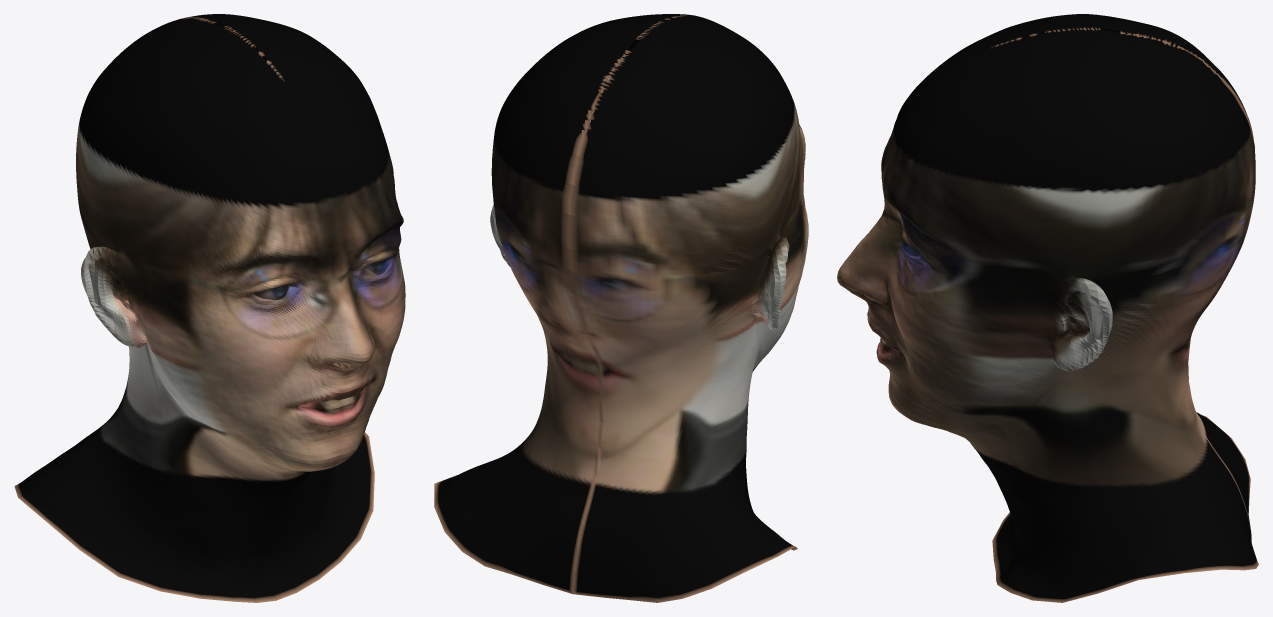
Rendered from mesh_coarse_detail.obj.
3 views of the same model, side by side, from view 1: azimuth 30°, elevation 25°; view 2: azimuth 150°, elevation 25°; view 3: azimuth 270°, elevation 25° (orthographic). The views are drawn at different scales.
Size of the model in its own units: 0.2124 by 0.3231 by 0.2265.
